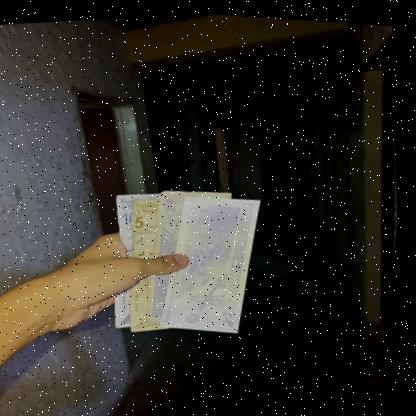five-front-vef: (121, 193, 184, 330)
ten-back-vef: (137, 177, 252, 324), (105, 185, 180, 329)
two_hundred-back-vef: (153, 184, 281, 340)
